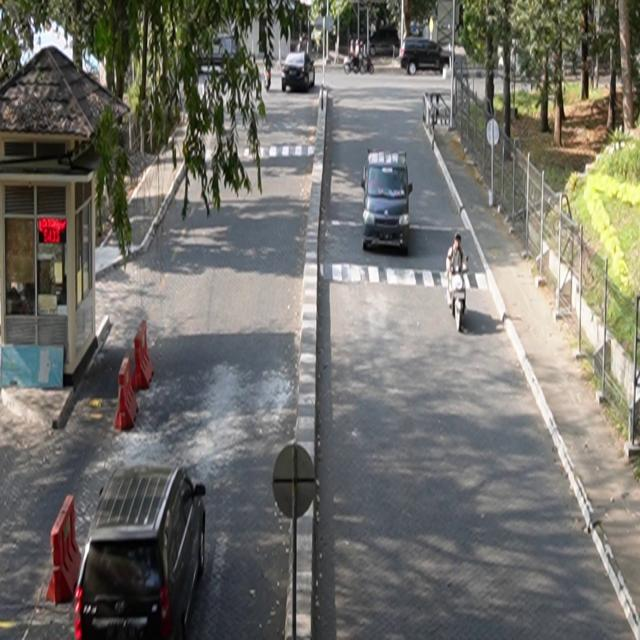car: (74, 465, 207, 640), (362, 149, 413, 255), (282, 52, 316, 93)
